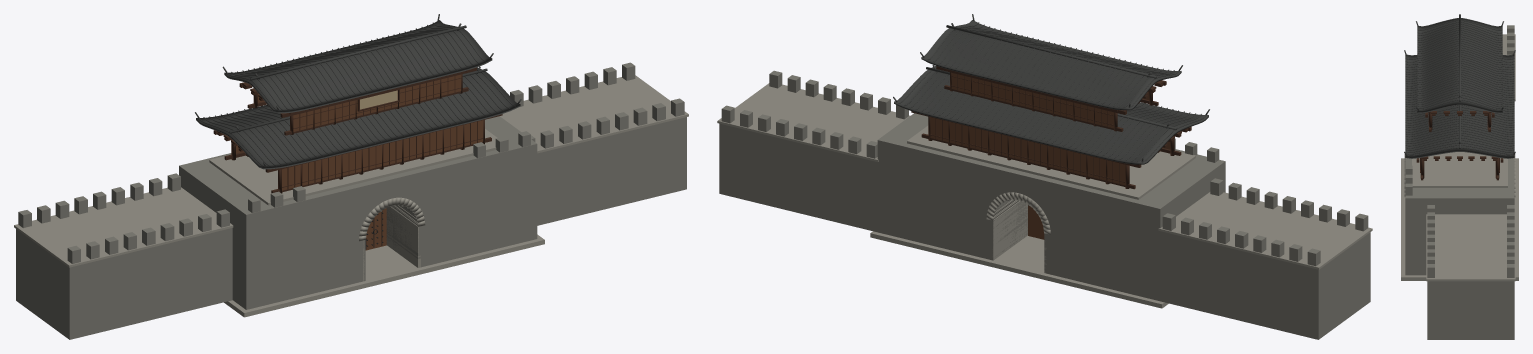
Rendered from SM_Zhengximen_LOD2.fbx.
The picture shows the model from 3 angles, left to right: view 1: azimuth 30°, elevation 25°; view 2: azimuth 150°, elevation 25°; view 3: azimuth 270°, elevation 25°; orthographic projection. The views are drawn at different scales.
Parts seen in each view (by area): view 1: SM_Zhengximen_LOD2_GrayBrick, SM_Zhengximen_LOD2_ClayRoofTile, SM_Zhengximen_LOD2_StoneFoundation, SM_Zhengximen_LOD2_AgedWood, SM_Zhengximen_LOD2_DarkTimber; view 2: SM_Zhengximen_LOD2_GrayBrick, SM_Zhengximen_LOD2_StoneFoundation, SM_Zhengximen_LOD2_ClayRoofTile, SM_Zhengximen_LOD2_AgedWood, SM_Zhengximen_LOD2_DarkTimber; view 3: SM_Zhengximen_LOD2_ClayRoofTile, SM_Zhengximen_LOD2_GrayBrick, SM_Zhengximen_LOD2_StoneFoundation, SM_Zhengximen_LOD2_DarkTimber.
Boxes of the visible parts, box(x1,y1,x2,y2) form: SM_Zhengximen_LOD2_GrayBrick: box(16, 62, 686, 339); SM_Zhengximen_LOD2_ClayRoofTile: box(195, 14, 521, 169); SM_Zhengximen_LOD2_StoneFoundation: box(14, 75, 688, 317); SM_Zhengximen_LOD2_AgedWood: box(236, 74, 483, 250); SM_Zhengximen_LOD2_DarkTimber: box(213, 67, 502, 193); SM_Zhengximen_LOD2_GrayBrick: box(719, 70, 1370, 339); SM_Zhengximen_LOD2_StoneFoundation: box(717, 83, 1372, 308); SM_Zhengximen_LOD2_ClayRoofTile: box(893, 14, 1209, 164); SM_Zhengximen_LOD2_AgedWood: box(930, 73, 1170, 239); SM_Zhengximen_LOD2_DarkTimber: box(911, 66, 1191, 189); SM_Zhengximen_LOD2_ClayRoofTile: box(1404, 14, 1515, 158); SM_Zhengximen_LOD2_GrayBrick: box(1405, 25, 1514, 339); SM_Zhengximen_LOD2_StoneFoundation: box(1401, 34, 1518, 281); SM_Zhengximen_LOD2_DarkTimber: box(1416, 111, 1503, 180).
Bounding box in the file's own units: 5320 × 1080 × 1690.
